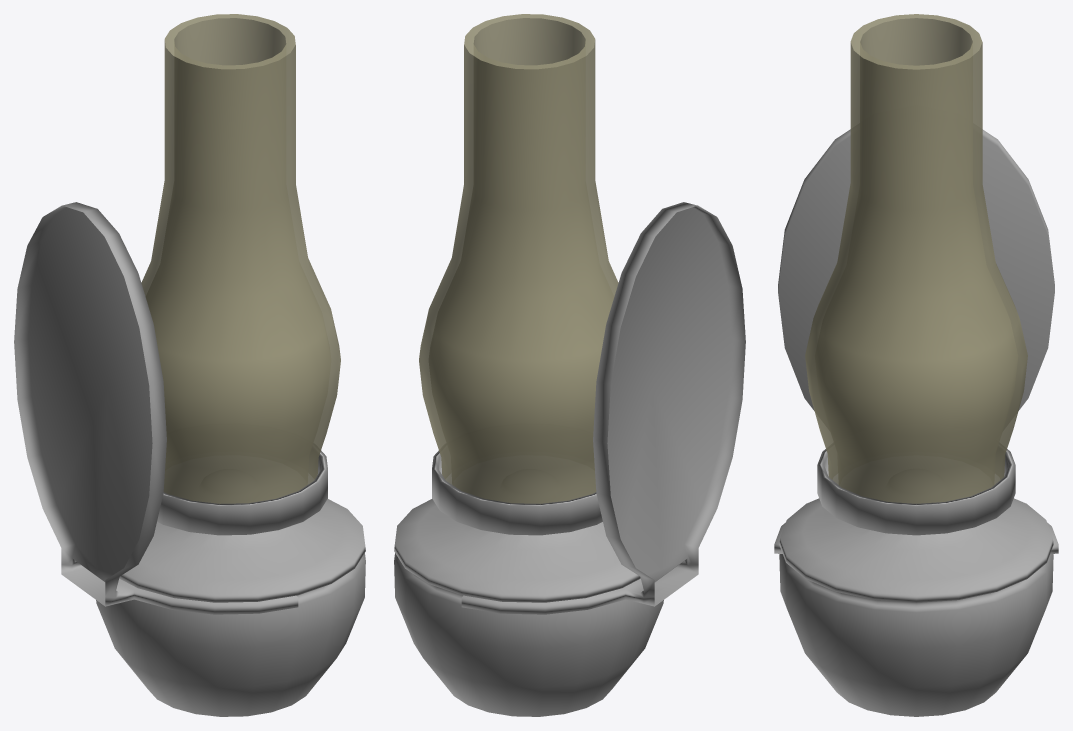
Rendered from SM_ParaffinLamp_01.fbx.
3 renders of one model, left to right at view 1: azimuth 30°, elevation 25°; view 2: azimuth 150°, elevation 25°; view 3: azimuth 270°, elevation 25°, orthographic.
Parts seen in each view (by area): view 1: SM_ParaffinLamp; view 2: SM_ParaffinLamp; view 3: SM_ParaffinLamp.
Part boxes in pixels (x1,y1,x2,y2): SM_ParaffinLamp: (14, 14, 365, 716); SM_ParaffinLamp: (394, 14, 745, 716); SM_ParaffinLamp: (774, 14, 1058, 716).
Bounding box in the file's own units: 183 × 422 × 170.
